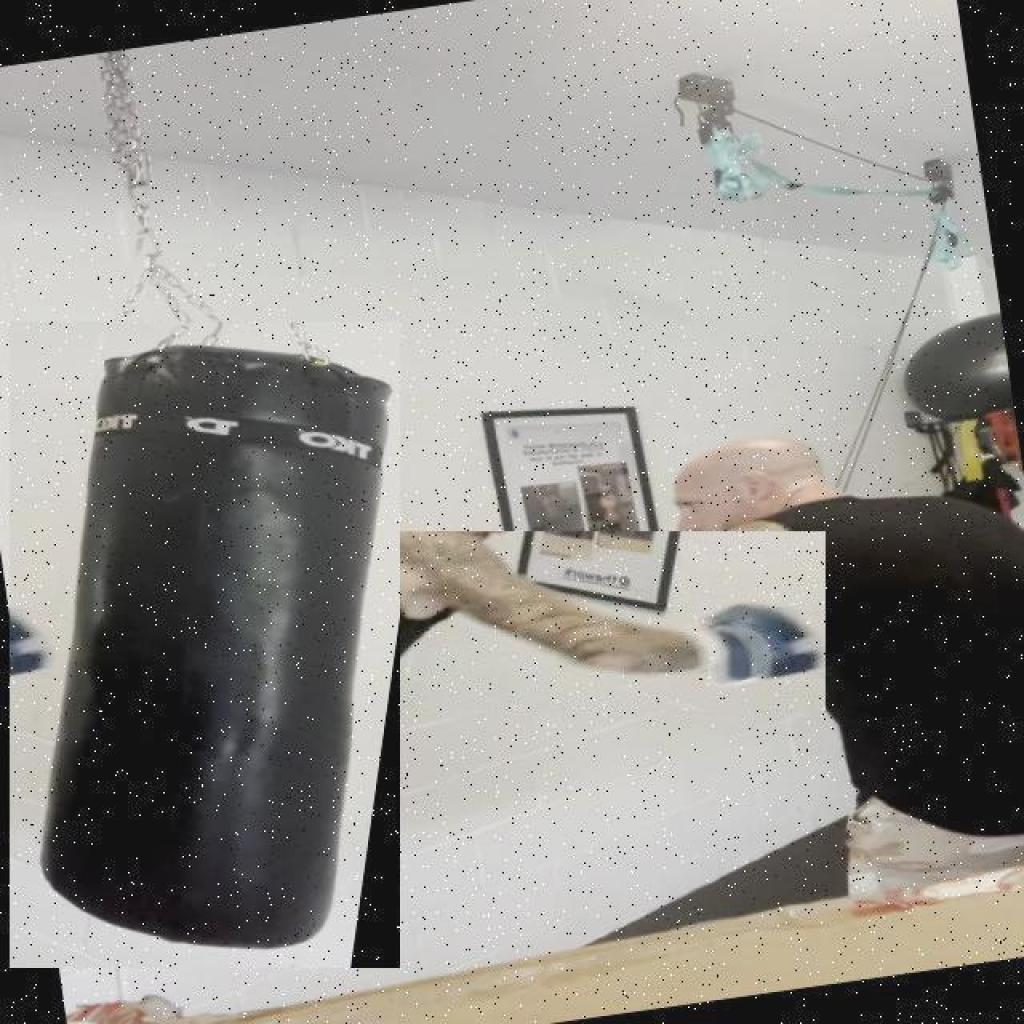bag: (10, 322, 400, 968)
hook: (358, 531, 825, 710)
